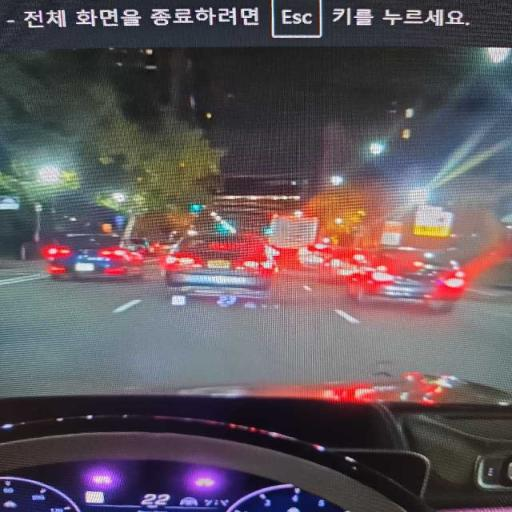car: (160, 234, 276, 305), (347, 248, 466, 312), (42, 234, 143, 278)
lane: (0, 268, 511, 395), (112, 299, 141, 313), (336, 310, 359, 324)
